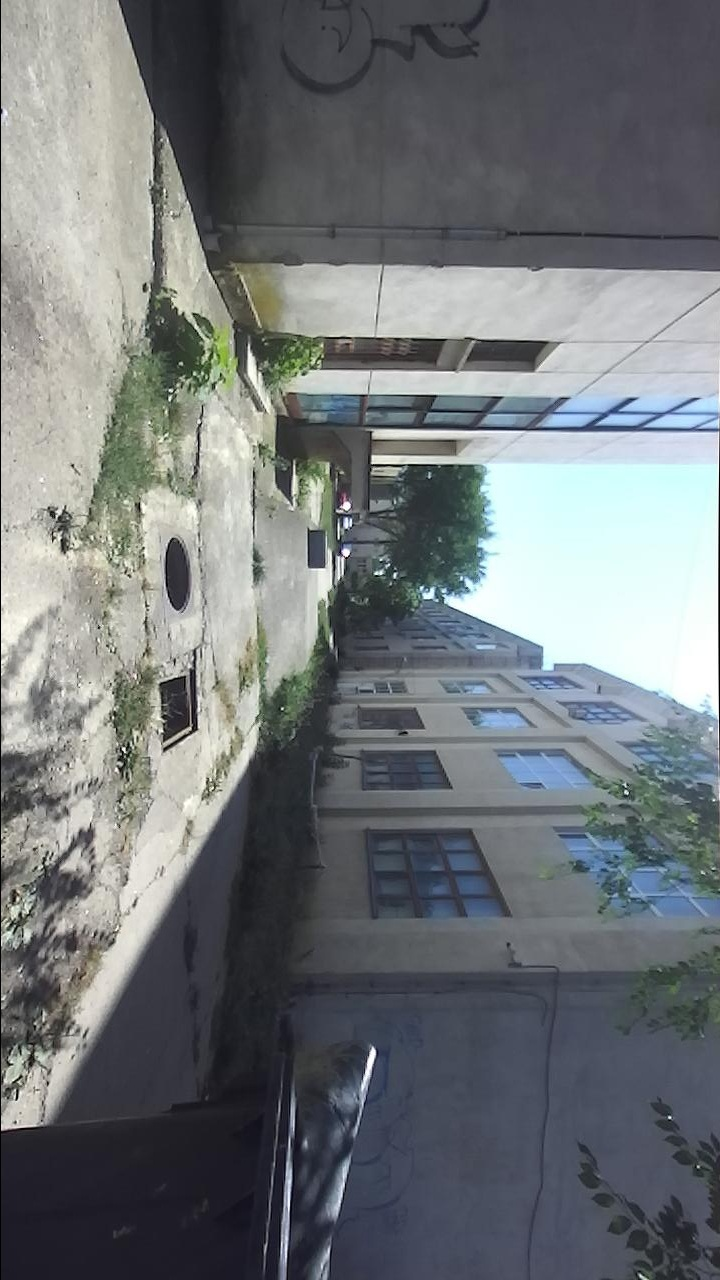drain: (154, 665, 205, 754), (157, 531, 199, 616)
